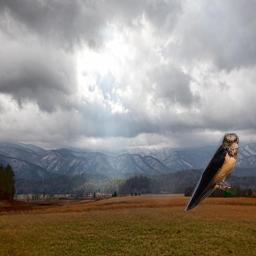Swallow: (185, 133, 239, 214)
